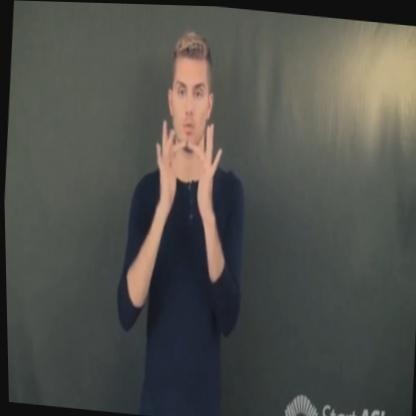Internet: (144, 94, 224, 210)
